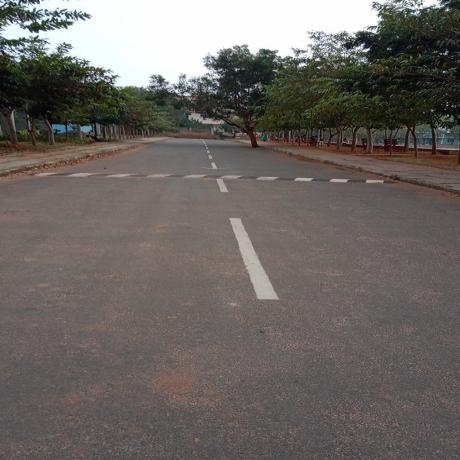Speed Bump: (28, 172, 397, 184)
